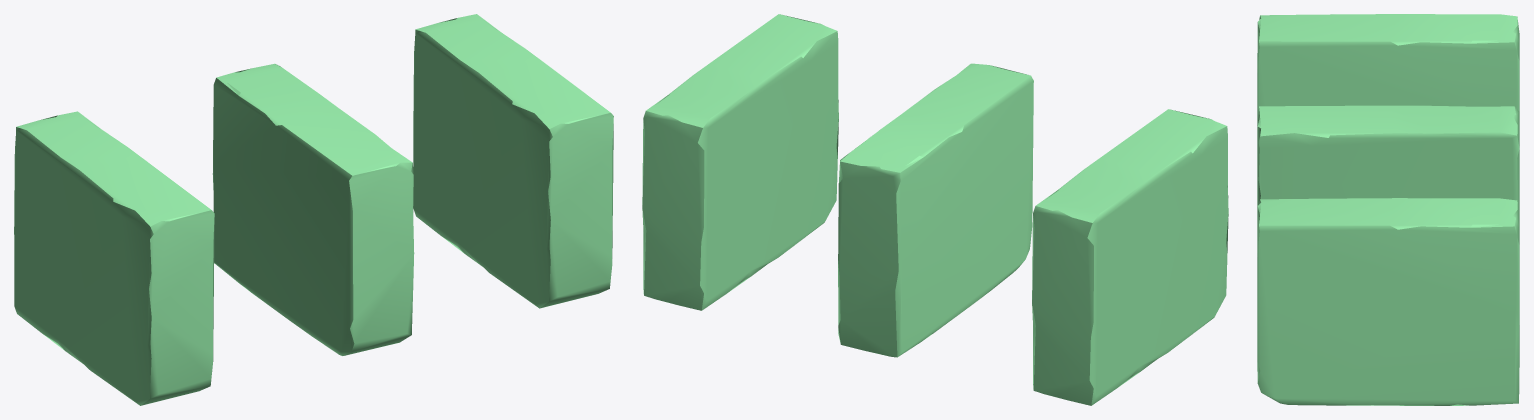
The model's file is stone_element_37e_line_x3.fbx.
3 renders of one model, left to right at view 1: azimuth 30°, elevation 25°; view 2: azimuth 150°, elevation 25°; view 3: azimuth 270°, elevation 25°, orthographic. The views are drawn at different scales.
Visible parts, largest first — view 1: stone_element_37e_line_x3_LOD0; view 2: stone_element_37e_line_x3_LOD0; view 3: stone_element_37e_line_x3_LOD0.
Part boxes in pixels (left/top/right/bottom): stone_element_37e_line_x3_LOD0: left=14, top=14, right=613, bottom=405; stone_element_37e_line_x3_LOD0: left=642, top=14, right=1228, bottom=405; stone_element_37e_line_x3_LOD0: left=1257, top=14, right=1519, bottom=405.
Size of what is drawn, in the model's own units: 238 by 94.04 by 123.
